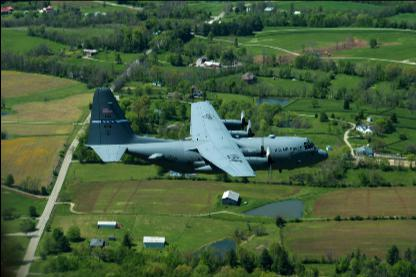Be200: (81, 86, 326, 178)
